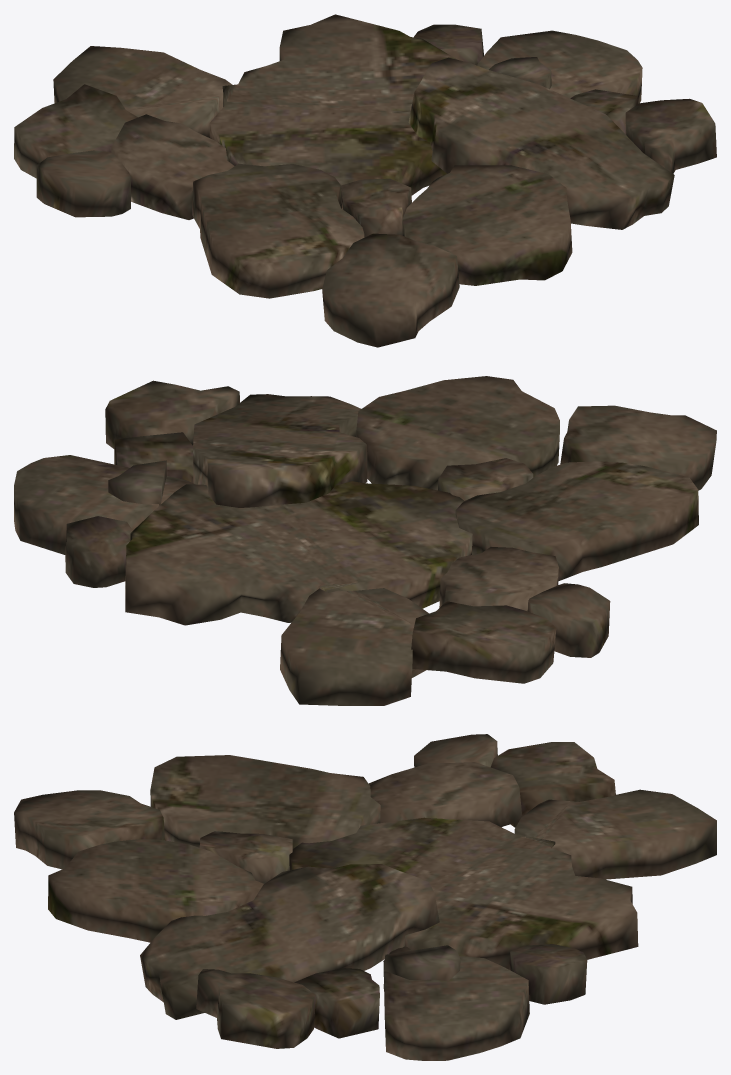
The model's file is Patches_rocks_.fbx.
3 views of the same model, one above another, from view 1: azimuth 30°, elevation 25°; view 2: azimuth 150°, elevation 25°; view 3: azimuth 270°, elevation 25° (orthographic). The views are drawn at different scales.
Parts seen in each view (by area): view 1: polySurface447:polySurface447_0; view 2: polySurface447:polySurface447_0; view 3: polySurface447:polySurface447_0.
Part boxes in pixels (<box>): polySurface447:polySurface447_0: <box>14,14,716,347</box>; polySurface447:polySurface447_0: <box>14,376,716,705</box>; polySurface447:polySurface447_0: <box>14,734,716,1060</box>.
Size of the model in its own units: 31.75 by 4.27 by 33.23.
1 material, 1 textured.
